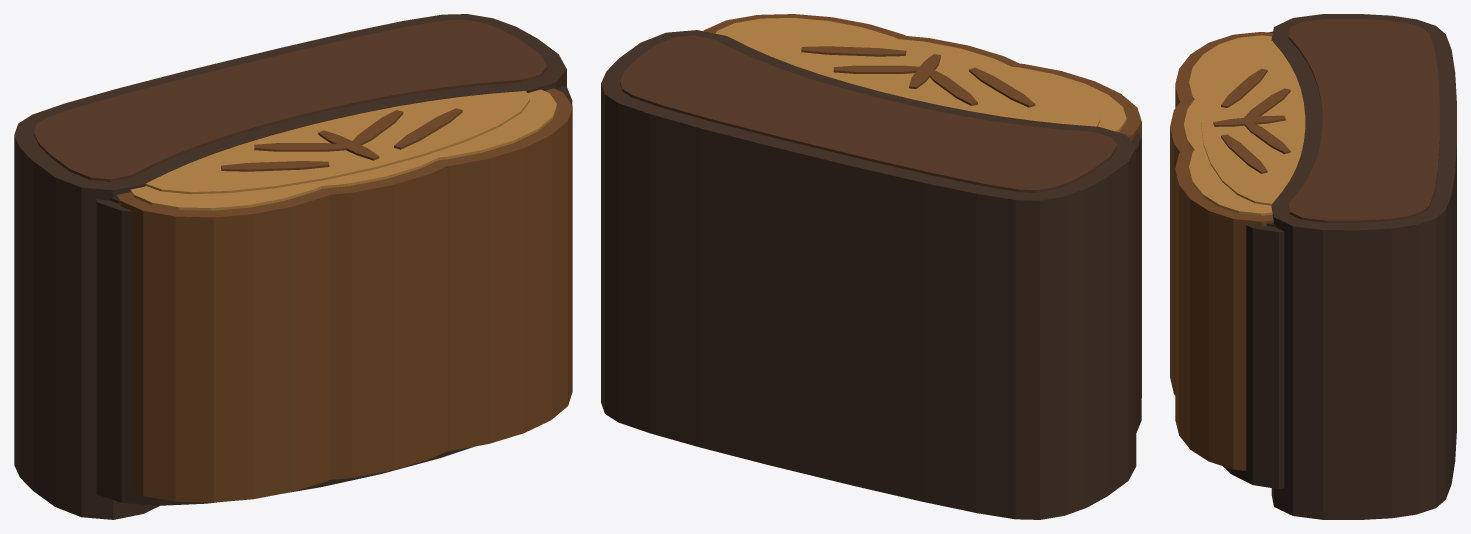
Rendered from bag_cesta_pao.fbx.
3 views of the same model, side by side, from view 1: azimuth 30°, elevation 25°; view 2: azimuth 150°, elevation 25°; view 3: azimuth 270°, elevation 25° (orthographic). The views are drawn at different scales.
Visible parts, largest first — view 1: bag_cesta_pao_mochila; view 2: bag_cesta_pao_mochila; view 3: bag_cesta_pao_mochila.
Part boxes in pixels (x1,y1,x2,y2): bag_cesta_pao_mochila: (14, 14, 572, 519); bag_cesta_pao_mochila: (601, 14, 1141, 519); bag_cesta_pao_mochila: (1170, 14, 1456, 519).
Bounding box in the file's own units: 2.96 × 1.87 × 1.66.
Materials: 1 (1 with a texture image).
